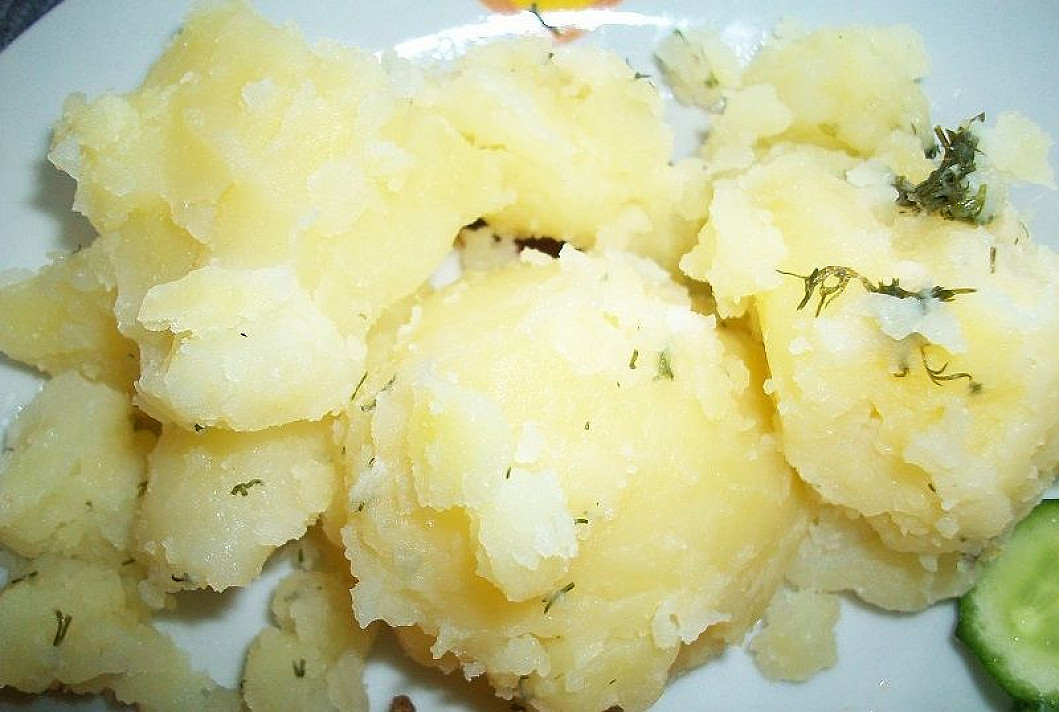boiled potatoes: (51, 29, 1020, 670)
